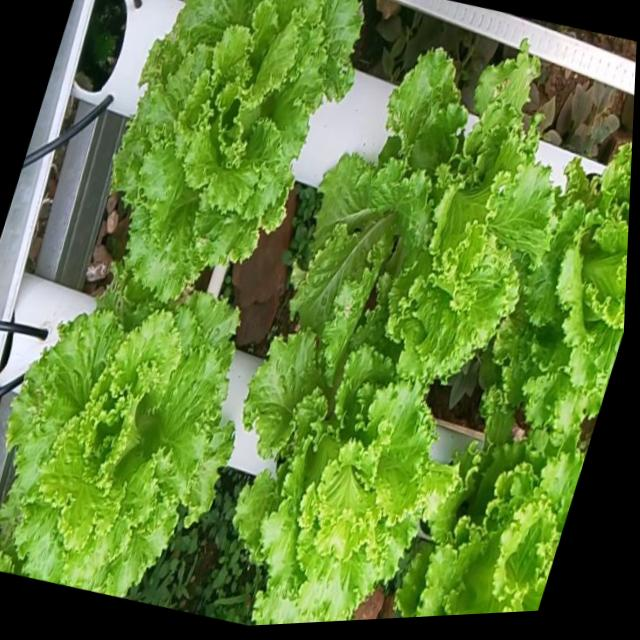Mature: (298, 44, 566, 387), (0, 286, 245, 598), (118, 0, 368, 302), (241, 316, 455, 625), (502, 140, 632, 423), (402, 428, 588, 617)
